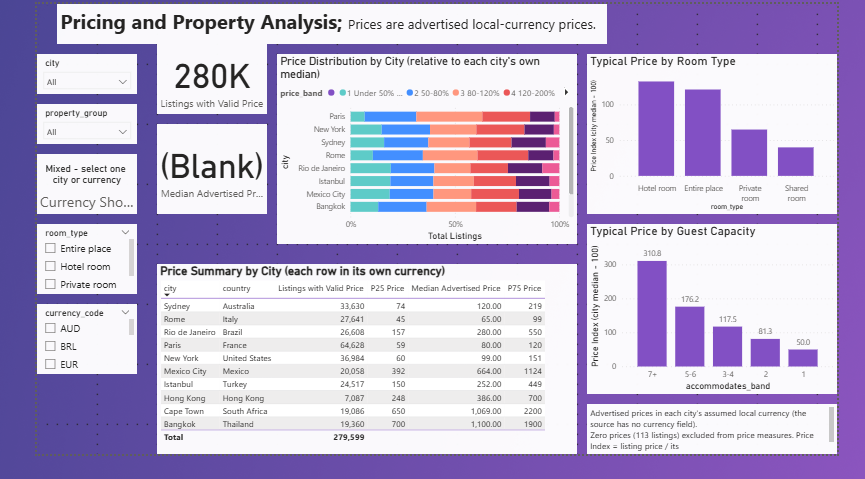

The dashboard page shown, as its layout file describes it:
{"tool":"powerbi","page":{"name":"Pricing and Property","canvas":[1280,720],"ordinal":2},"visuals":[{"type":"slicer","fields":{"Values":["dim_city.city"]},"box":[0,80,160,64],"z":0},{"type":"slicer","fields":{"Values":["dim_listing.room_type"]},"box":[0,352,160,112],"z":1000},{"type":"slicer","fields":{"Values":["dim_listing.property_group"]},"box":[0,160,160,64],"z":2000},{"type":"slicer","fields":{"Values":["dim_city.currency_code"]},"box":[0,480,160,112],"z":3000},{"type":"textbox","box":[32,0,880,64],"z":4000},{"type":"card","fields":{"Values":["dim_listing.Currency Shown"]},"box":[0,240,160,96],"z":5000},{"type":"card","fields":{"Values":["dim_listing.Median Advertised Price"]},"box":[192,192,176,144],"z":6000},{"type":"card","fields":{"Values":["dim_listing.Listings with Valid Price"]},"box":[192,64,176,112],"z":7000},{"type":"tableEx","title":"Price Summary by City (each row in its own currency)","fields":{"Values":["dim_city.city","dim_city.country","dim_listing.Listings with Valid Price","dim_listing.P25 Price","dim_listing.Median Advertised Price","dim_listing.P75 Price"]},"box":[192,416,672,304],"z":8000},{"type":"hundredPercentStackedBarChart","title":"Price Distribution by City (relative to each city''s own median)","fields":{"Category":["dim_city.city"],"Series":["dim_listing.price_band"],"Y":["dim_listing.Total Listings"]},"box":[384,80,480,304],"z":9000},{"type":"clusteredColumnChart","title":"Typical Price by Room Type ","fields":{"Category":["dim_listing.room_type"],"Y":["dim_listing.Price Index (city median - 100)"]},"box":[880,80,400,256],"z":10000},{"type":"clusteredColumnChart","title":"Typical Price by Guest Capacity","fields":{"Category":["dim_listing.accommodates_band"],"Y":["dim_listing.Price Index (city median - 100)"]},"box":[880,352,400,272],"z":11000},{"type":"textbox","box":[880,640,400,80],"z":12000}]}

Visuals, with their boxes in screenshot pixels (x1, y1, x2, y2), scaled from the page's 1280x720 canvas onto the 865x479 screenshot:
slicer - dim_city.city: <box>0,53,108,96</box>
slicer - dim_listing.room_type: <box>0,234,108,309</box>
slicer - dim_listing.property_group: <box>0,106,108,149</box>
slicer - dim_city.currency_code: <box>0,319,108,394</box>
textbox: <box>22,0,616,43</box>
card - dim_listing.Currency Shown: <box>0,160,108,224</box>
card - dim_listing.Median Advertised Price: <box>130,128,249,224</box>
card - dim_listing.Listings with Valid Price: <box>130,43,249,117</box>
"Price Summary by City (each row in its own currency)" tableEx: <box>130,277,584,478</box>
"Price Distribution by City (relative to each city''s own median)" hundredPercentStackedBarChart: <box>260,53,584,255</box>
"Typical Price by Room Type " clusteredColumnChart: <box>595,53,864,224</box>
"Typical Price by Guest Capacity" clusteredColumnChart: <box>595,234,864,415</box>
textbox: <box>595,426,864,478</box>
